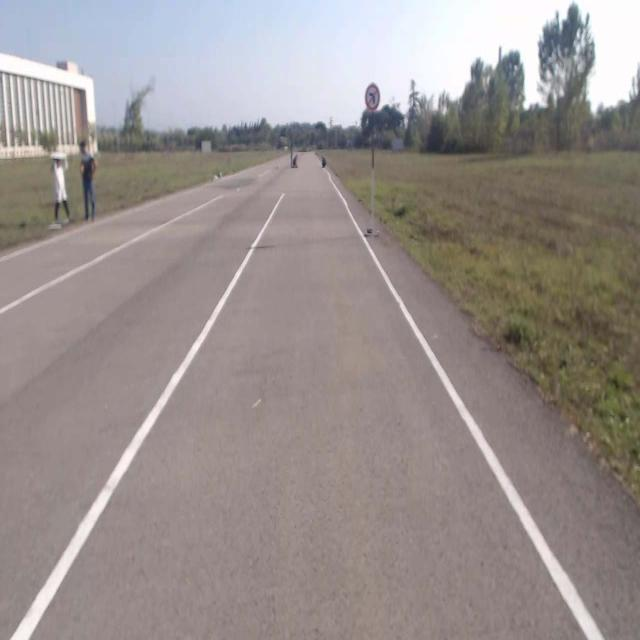soladonulmez: (365, 84, 379, 110)
